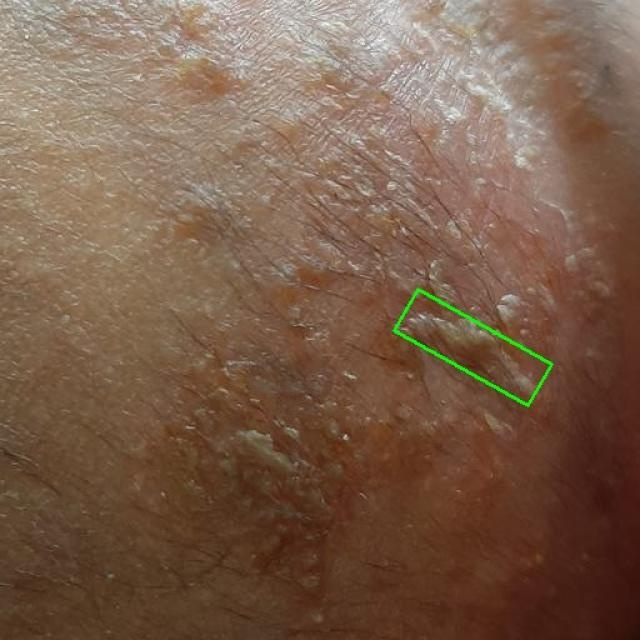Seborrheic Dermatitis: (395, 290, 551, 406)
